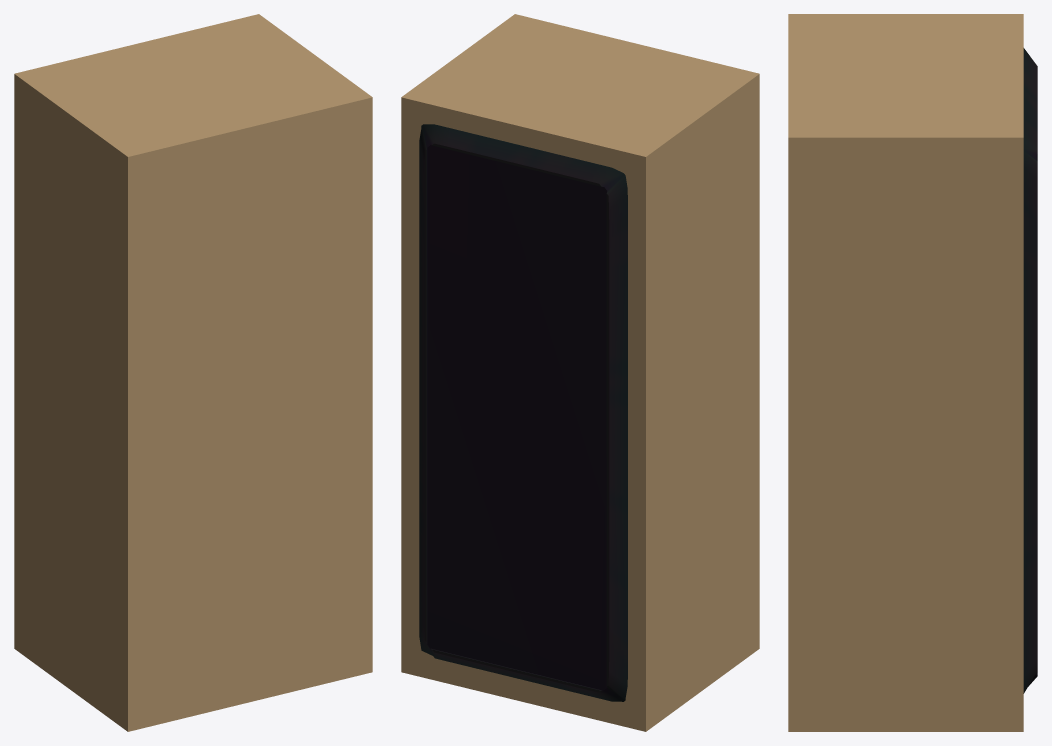
3 renders of one model, left to right at view 1: azimuth 30°, elevation 25°; view 2: azimuth 150°, elevation 25°; view 3: azimuth 270°, elevation 25°, orthographic. The views are drawn at different scales.
Visible parts, largest first — view 1: case; view 2: case, beveled_face; view 3: case, beveled_face.
Boxes of the visible parts, x1,y1,x2,y2 form: case: [14, 14, 372, 731]; case: [401, 14, 759, 731]; beveled_face: [419, 124, 627, 701]; case: [788, 14, 1023, 731]; beveled_face: [1023, 48, 1037, 693].
Size of the model in its own units: 0.8021 by 1.8 by 0.6851.
